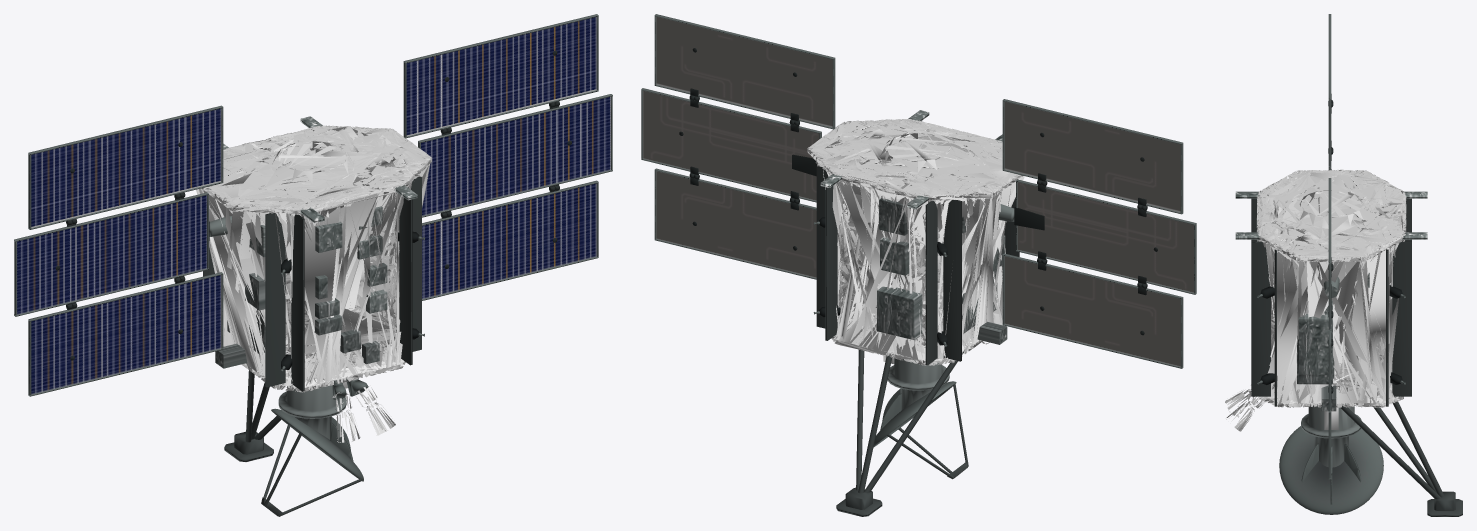
Rendered from Quick Scatterometer.fbx.
3 renders of one model, left to right at view 1: azimuth 30°, elevation 25°; view 2: azimuth 150°, elevation 25°; view 3: azimuth 270°, elevation 25°, orthographic. The views are drawn at different scales.
Visible parts, largest first — view 1: node_e7f10e79_b807_42ad_ae77_56d2b65be3a4_mesh1, node_4646d2bf_394f_4a06_a35d_3b28500d1897_mesh0, node_e99cbcb5_f706_47be_b947_e34dd551ff06_mesh0, node_e7f10e79_b807_42ad_ae77_56d2b65be3a4_mesh0, node_5ebbf67a_fdf6_460b_a0ba_615906aed14d_mesh0, node_81b6f044_4b3c_4a89_95a2_0ac51ad11fbb_mesh0, node_5415c958_393b_4796_80b2_0a7d36c3eee1_mesh0, node_e988d415_1839_4f49_85ed_03638e6fa38e_mesh0, node_70e05719_1ec7_4980_85de_0fcdb7845d42_mesh0, node_7830a1e3_f62a_4387_9f46_cfe8798b2144_mesh0; view 2: node_e7f10e79_b807_42ad_ae77_56d2b65be3a4_mesh2, node_4646d2bf_394f_4a06_a35d_3b28500d1897_mesh0, node_e99cbcb5_f706_47be_b947_e34dd551ff06_mesh0, node_e7f10e79_b807_42ad_ae77_56d2b65be3a4_mesh0, node_5ebbf67a_fdf6_460b_a0ba_615906aed14d_mesh0, node_5415c958_393b_4796_80b2_0a7d36c3eee1_mesh0, node_81b6f044_4b3c_4a89_95a2_0ac51ad11fbb_mesh0, node_7830a1e3_f62a_4387_9f46_cfe8798b2144_mesh0, node_70e05719_1ec7_4980_85de_0fcdb7845d42_mesh0; view 3: node_4646d2bf_394f_4a06_a35d_3b28500d1897_mesh0, node_e99cbcb5_f706_47be_b947_e34dd551ff06_mesh0, node_5415c958_393b_4796_80b2_0a7d36c3eee1_mesh0, node_5ebbf67a_fdf6_460b_a0ba_615906aed14d_mesh0, node_e7f10e79_b807_42ad_ae77_56d2b65be3a4_mesh0, node_81b6f044_4b3c_4a89_95a2_0ac51ad11fbb_mesh0, node_70e05719_1ec7_4980_85de_0fcdb7845d42_mesh0, node_e988d415_1839_4f49_85ed_03638e6fa38e_mesh0, node_9f21a171_f556_47b6_8889_f31c67c35355_mesh0.
Boxes of the visible parts, x1,y1,x2,y2 form: node_e7f10e79_b807_42ad_ae77_56d2b65be3a4_mesh1: [17, 17, 610, 394]; node_4646d2bf_394f_4a06_a35d_3b28500d1897_mesh0: [196, 125, 431, 392]; node_e99cbcb5_f706_47be_b947_e34dd551ff06_mesh0: [203, 176, 421, 461]; node_e7f10e79_b807_42ad_ae77_56d2b65be3a4_mesh0: [14, 14, 612, 396]; node_5ebbf67a_fdf6_460b_a0ba_615906aed14d_mesh0: [215, 116, 417, 439]; node_81b6f044_4b3c_4a89_95a2_0ac51ad11fbb_mesh0: [223, 269, 403, 387]; node_5415c958_393b_4796_80b2_0a7d36c3eee1_mesh0: [261, 408, 363, 516]; node_e988d415_1839_4f49_85ed_03638e6fa38e_mesh0: [332, 387, 395, 442]; node_70e05719_1ec7_4980_85de_0fcdb7845d42_mesh0: [272, 141, 354, 184]; node_7830a1e3_f62a_4387_9f46_cfe8798b2144_mesh0: [285, 213, 396, 295]; node_e7f10e79_b807_42ad_ae77_56d2b65be3a4_mesh2: [643, 17, 1193, 366]; node_4646d2bf_394f_4a06_a35d_3b28500d1897_mesh0: [807, 119, 1024, 365]; node_e99cbcb5_f706_47be_b947_e34dd551ff06_mesh0: [816, 166, 1019, 516]; node_e7f10e79_b807_42ad_ae77_56d2b65be3a4_mesh0: [641, 14, 1196, 368]; node_5ebbf67a_fdf6_460b_a0ba_615906aed14d_mesh0: [820, 110, 1007, 409]; node_5415c958_393b_4796_80b2_0a7d36c3eee1_mesh0: [873, 381, 968, 479]; node_81b6f044_4b3c_4a89_95a2_0ac51ad11fbb_mesh0: [834, 257, 993, 360]; node_7830a1e3_f62a_4387_9f46_cfe8798b2144_mesh0: [839, 198, 943, 281]; node_70e05719_1ec7_4980_85de_0fcdb7845d42_mesh0: [880, 133, 956, 173]; node_4646d2bf_394f_4a06_a35d_3b28500d1897_mesh0: [1257, 169, 1406, 407]; node_e99cbcb5_f706_47be_b947_e34dd551ff06_mesh0: [1251, 198, 1462, 516]; node_5415c958_393b_4796_80b2_0a7d36c3eee1_mesh0: [1279, 426, 1383, 514]; node_5ebbf67a_fdf6_460b_a0ba_615906aed14d_mesh0: [1235, 191, 1427, 467]; node_e7f10e79_b807_42ad_ae77_56d2b65be3a4_mesh0: [1328, 14, 1333, 479]; node_81b6f044_4b3c_4a89_95a2_0ac51ad11fbb_mesh0: [1262, 317, 1392, 403]; node_70e05719_1ec7_4980_85de_0fcdb7845d42_mesh0: [1296, 190, 1366, 228]; node_e988d415_1839_4f49_85ed_03638e6fa38e_mesh0: [1225, 389, 1264, 431]; node_9f21a171_f556_47b6_8889_f31c67c35355_mesh0: [1434, 491, 1455, 510].
Size of the model in its own units: 751 by 507 by 289.
15 materials, 10 textured.
